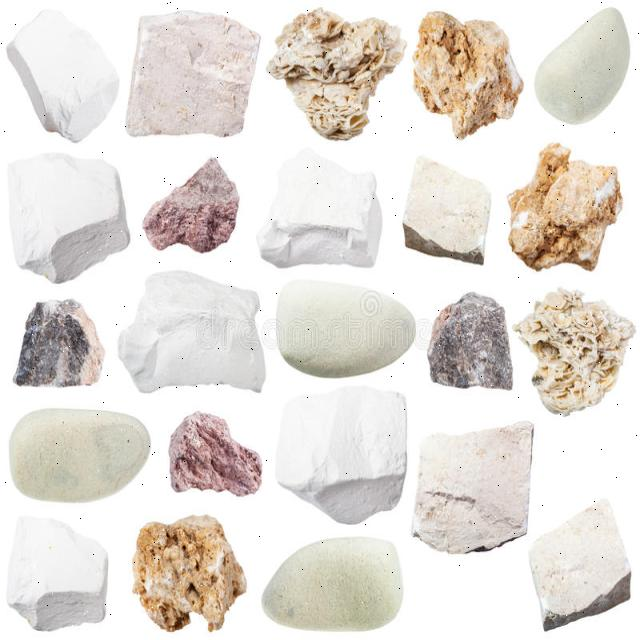Sedimentary: (110, 273, 270, 397), (274, 385, 411, 524), (2, 148, 140, 282), (268, 3, 403, 139), (410, 409, 532, 558), (505, 135, 628, 278), (128, 6, 258, 139), (410, 1, 528, 138), (7, 7, 122, 146), (254, 148, 385, 268), (274, 274, 419, 382), (511, 289, 635, 410), (524, 500, 634, 628), (3, 406, 150, 500), (262, 533, 404, 630), (136, 514, 251, 630), (2, 510, 112, 629), (134, 144, 248, 258), (532, 1, 631, 124), (394, 150, 496, 260), (424, 294, 526, 394), (164, 409, 269, 503), (17, 298, 106, 390)
